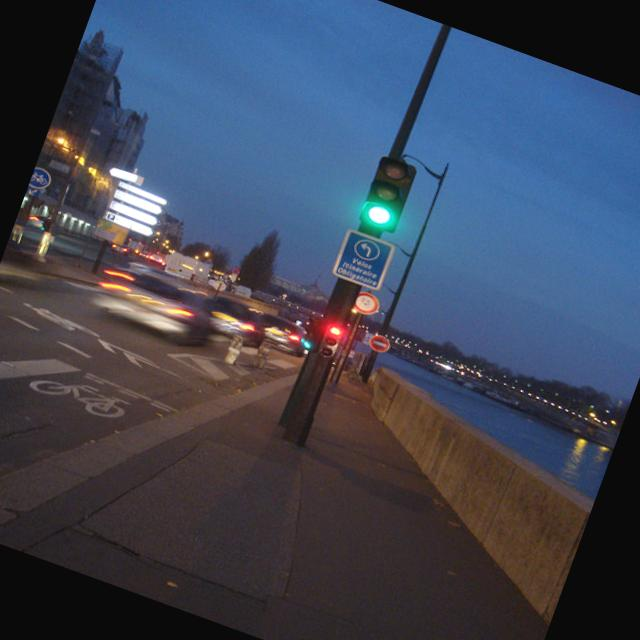Vehicle: (92, 256, 225, 352), (198, 291, 276, 350), (252, 310, 312, 359)
